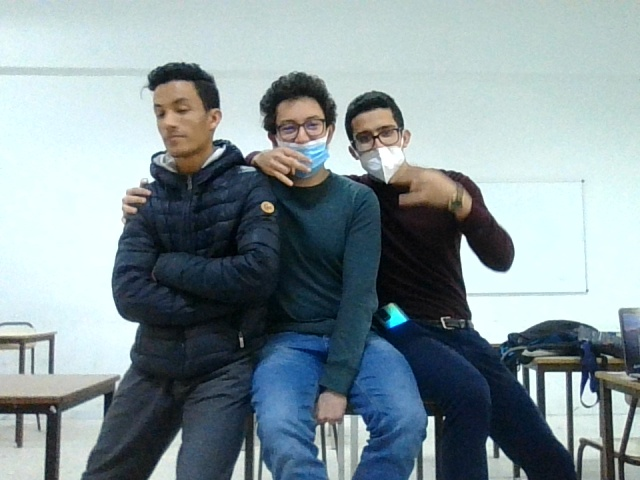mask_weared_incorrect: (349, 126, 413, 188), (275, 114, 337, 172)
without_mask: (149, 97, 210, 150)
